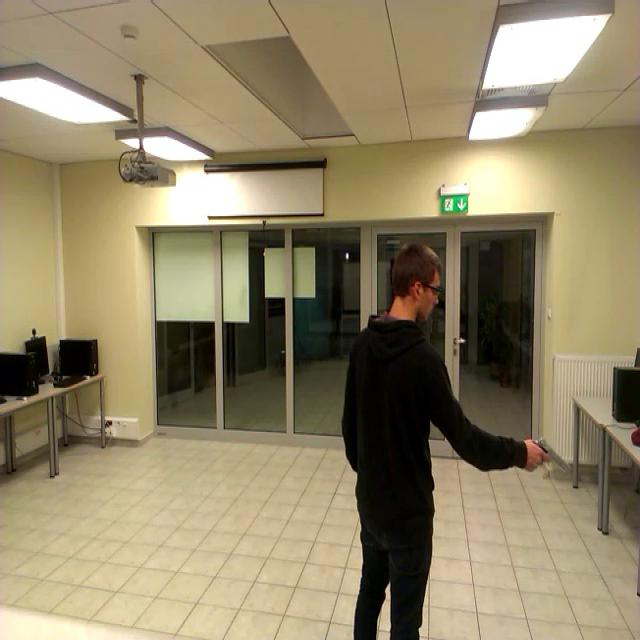handgun: (528, 426, 574, 477)
